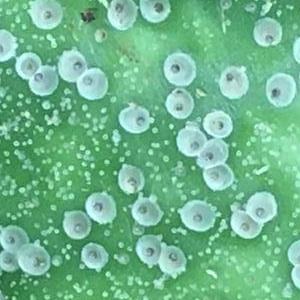Femea: (162, 56, 195, 85), (220, 70, 248, 97), (194, 138, 224, 163), (29, 1, 59, 25), (57, 52, 84, 77), (245, 195, 272, 220), (181, 204, 211, 226), (265, 81, 291, 106), (80, 71, 106, 96), (87, 194, 112, 220), (159, 247, 184, 272), (202, 163, 228, 187), (23, 246, 47, 271), (66, 211, 89, 237), (254, 25, 281, 47), (33, 66, 54, 94), (105, 0, 133, 21), (129, 201, 157, 222), (142, 0, 171, 20), (136, 237, 157, 264), (176, 129, 199, 153), (119, 106, 148, 125), (206, 113, 231, 135), (120, 168, 144, 190), (236, 214, 257, 236), (16, 56, 37, 76), (167, 95, 188, 115), (81, 247, 100, 266), (2, 228, 19, 249), (0, 251, 19, 267)
Linfa: (14, 199, 36, 218), (71, 144, 94, 162), (41, 110, 65, 127), (1, 115, 18, 138), (51, 162, 71, 181), (17, 107, 34, 128), (17, 178, 38, 195), (53, 183, 74, 200), (64, 109, 84, 126), (93, 113, 109, 133), (56, 96, 72, 112), (9, 147, 25, 163), (41, 225, 59, 239), (109, 127, 122, 146), (8, 134, 24, 147), (89, 137, 101, 152), (80, 168, 94, 180), (99, 156, 112, 168), (64, 163, 75, 171)
Macho: (202, 266, 218, 280)
